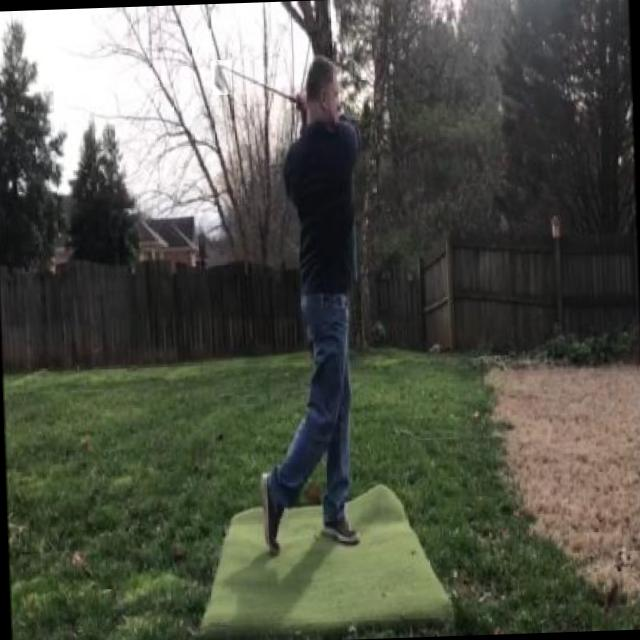club head: (211, 60, 232, 95)
